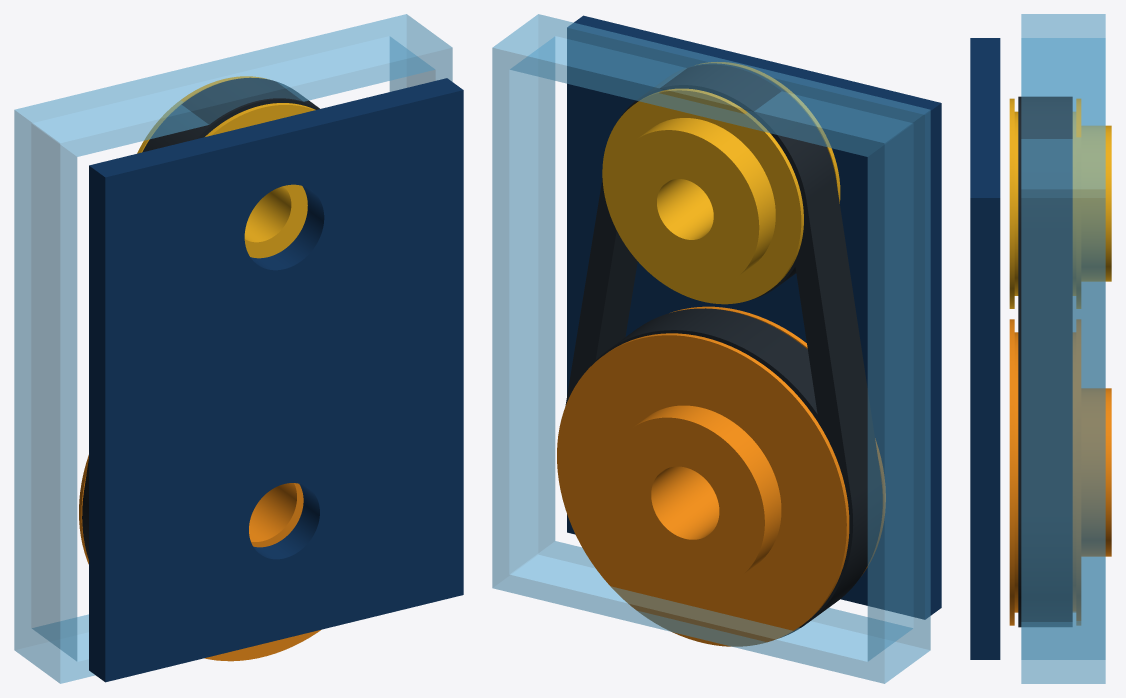
The model's file is LD-15_candidate.glb.
The picture shows the model from 3 angles, left to right: view 1: azimuth 30°, elevation 25°; view 2: azimuth 150°, elevation 25°; view 3: azimuth 270°, elevation 25°; orthographic projection. The views are drawn at different scales.
Visible parts, largest first — view 1: SLOTTED_CARRIER_PLATE, REMOVABLE_GUARD_ENVELOPE, MISUMI_EV5GT_BELT_ROUTING_ENVELOPE, MISUMI_MOTOR_PULLEY_ENVELOPE, MISUMI_OUTPUT_PULLEY_ENVELOPE; view 2: REMOVABLE_GUARD_ENVELOPE, MISUMI_OUTPUT_PULLEY_ENVELOPE, SLOTTED_CARRIER_PLATE, MISUMI_EV5GT_BELT_ROUTING_ENVELOPE, MISUMI_MOTOR_PULLEY_ENVELOPE; view 3: REMOVABLE_GUARD_ENVELOPE, MISUMI_EV5GT_BELT_ROUTING_ENVELOPE, SLOTTED_CARRIER_PLATE, MISUMI_OUTPUT_PULLEY_ENVELOPE, MISUMI_MOTOR_PULLEY_ENVELOPE.
Boxes of the visible parts, x1,y1,x2,y2 form: SLOTTED_CARRIER_PLATE: (89, 78, 463, 682); REMOVABLE_GUARD_ENVELOPE: (14, 14, 452, 683); MISUMI_EV5GT_BELT_ROUTING_ENVELOPE: (82, 77, 319, 559); MISUMI_MOTOR_PULLEY_ENVELOPE: (137, 76, 315, 258); MISUMI_OUTPUT_PULLEY_ENVELOPE: (79, 455, 321, 661); REMOVABLE_GUARD_ENVELOPE: (492, 14, 930, 683); MISUMI_OUTPUT_PULLEY_ENVELOPE: (557, 306, 885, 646); SLOTTED_CARRIER_PLATE: (567, 15, 941, 619); MISUMI_EV5GT_BELT_ROUTING_ENVELOPE: (565, 63, 882, 637); MISUMI_MOTOR_PULLEY_ENVELOPE: (602, 62, 840, 304); REMOVABLE_GUARD_ENVELOPE: (1021, 14, 1105, 683); MISUMI_EV5GT_BELT_ROUTING_ENVELOPE: (1018, 96, 1072, 627); SLOTTED_CARRIER_PLATE: (970, 38, 1000, 659); MISUMI_OUTPUT_PULLEY_ENVELOPE: (1009, 319, 1111, 625); MISUMI_MOTOR_PULLEY_ENVELOPE: (1009, 98, 1111, 308).
Size of the model in its own units: 69 by 93.88 by 23.5.
